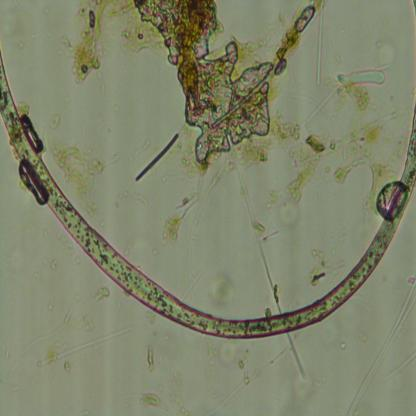Background material: (126, 1, 310, 161), (268, 108, 396, 216), (59, 0, 125, 88), (54, 139, 105, 206), (134, 132, 181, 184), (206, 336, 251, 382), (139, 384, 186, 413), (310, 248, 341, 289), (281, 332, 305, 380), (159, 208, 186, 249), (90, 283, 111, 304), (147, 343, 158, 374), (47, 115, 60, 130), (50, 259, 57, 270)
Glass filter fibre: (348, 277, 416, 415), (227, 141, 280, 312), (188, 162, 231, 304), (300, 70, 387, 128), (36, 325, 134, 367), (384, 352, 416, 381), (316, 2, 326, 83), (180, 267, 203, 302)
Microfibre: (0, 50, 416, 338)
